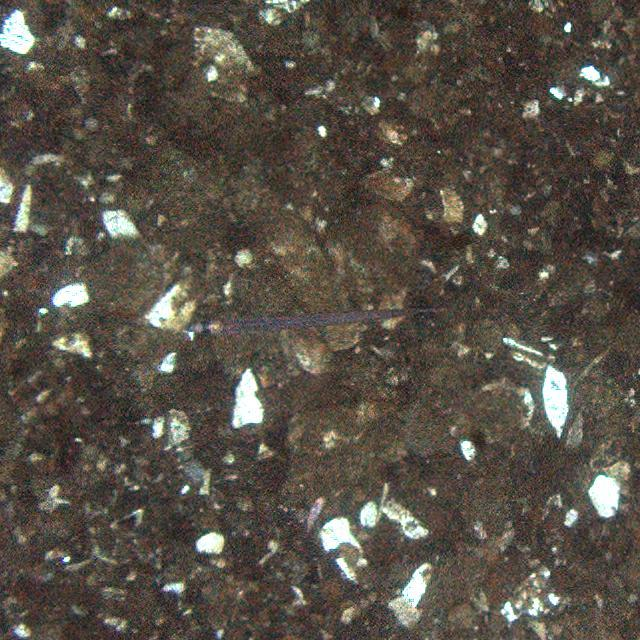roundfish: (182, 304, 456, 342)
